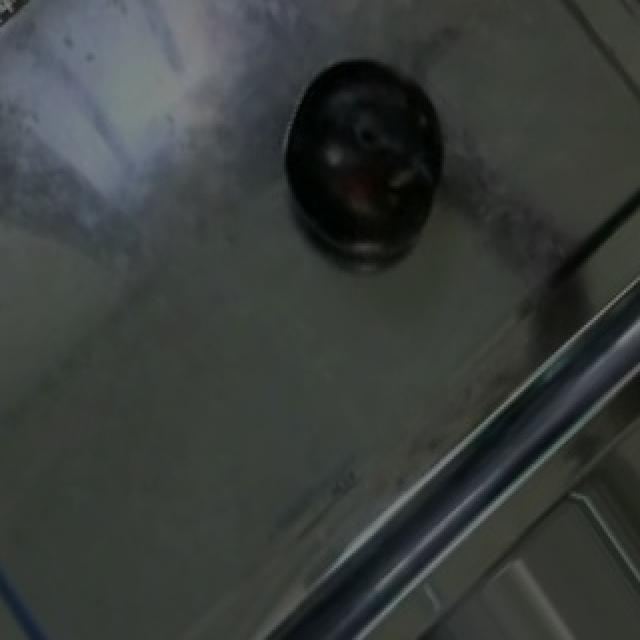Fruit: (270, 42, 452, 263), (0, 0, 56, 50)
